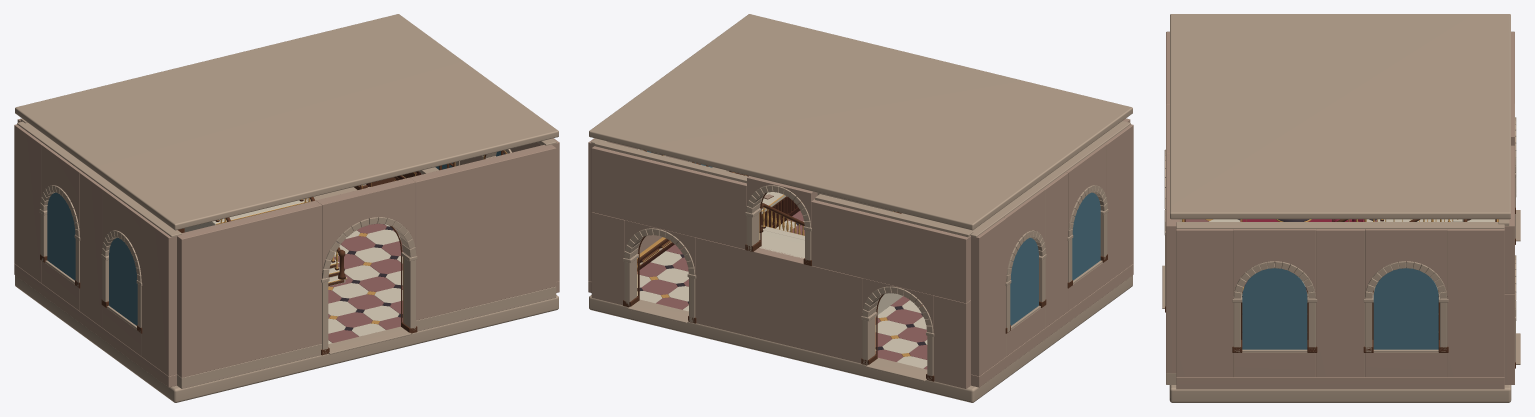
File: HotelH00.fbx
The picture shows the model from 3 angles, left to right: view 1: azimuth 30°, elevation 25°; view 2: azimuth 150°, elevation 25°; view 3: azimuth 270°, elevation 25°; orthographic projection. The views are drawn at different scales.
Parts seen in each view (by area): view 1: Roof slab, Front thick masonry.001, Front thick masonry, Exposed diorama stone foundation, Thick masonry pier, Curved plaster spandrel.007, Thick masonry pier.002, Marble mosaic - H00_Rose_Marble, Marble mosaic - H00_Ivory_Marble, Thick masonry pier.001, Recessed arched glazing.001, Recessed arched glazing (+12 smaller); view 2: Roof slab, Rear load-bearing wall pier.001, Upper gallery wall, Upper gallery wall.001, Exposed diorama stone foundation, Thick masonry pier.002, Thick masonry pier, Rear load-bearing wall pier, Thick masonry pier.001, Marble mosaic - H00_Rose_Marble, Rear load-bearing wall pier.002, Marble mosaic - H00_Ivory_Marble (+19 smaller); view 3: Roof slab, Thick masonry pier.003, Thick masonry pier.005, Thick masonry pier.004, Recessed arched glazing.003, Recessed arched glazing.002, Exposed diorama stone foundation, Wall base section.001, Curved plaster spandrel.006, Curved plaster spandrel.005, Upper side crown.001, Paneled sill masonry.003 (+8 smaller).
Part boxes in pixels (box(x1,y1,x2,y2)): Roof slab: box(15, 14, 558, 230); Front thick masonry.001: box(177, 200, 321, 377); Front thick masonry: box(410, 144, 556, 320); Exposed diorama stone foundation: box(15, 275, 558, 402); Thick masonry pier: box(141, 217, 176, 376); Curved plaster spandrel.007: box(316, 177, 415, 278); Thick masonry pier.002: box(14, 124, 43, 282); Marble mosaic - H00_Rose_Marble: box(328, 223, 402, 342); Marble mosaic - H00_Ivory_Marble: box(328, 224, 402, 343); Thick masonry pier.001: box(80, 172, 105, 327); Recessed arched glazing.001: box(47, 192, 75, 280); Recessed arched glazing: box(109, 238, 137, 325); Roof slab: box(589, 14, 1132, 230); Rear load-bearing wall pier.001: box(695, 237, 862, 363); Upper gallery wall: box(811, 199, 970, 303); Upper gallery wall.001: box(591, 146, 746, 249); Exposed diorama stone foundation: box(589, 275, 1132, 402); Thick masonry pier.002: box(971, 217, 1006, 376); Thick masonry pier: box(1104, 124, 1133, 282); Rear load-bearing wall pier: box(933, 295, 970, 388); Thick masonry pier.001: box(1042, 172, 1067, 327); Marble mosaic - H00_Rose_Marble: box(637, 210, 927, 369); Rear load-bearing wall pier.002: box(591, 212, 624, 305); Marble mosaic - H00_Ivory_Marble: box(637, 220, 927, 368); Roof slab: box(1170, 14, 1510, 219); Thick masonry pier.003: box(1447, 228, 1504, 377); Thick masonry pier.005: box(1176, 228, 1233, 377); Thick masonry pier.004: box(1316, 229, 1364, 377); Recessed arched glazing.003: box(1242, 268, 1307, 349); Recessed arched glazing.002: box(1373, 268, 1438, 349); Exposed diorama stone foundation: box(1169, 263, 1511, 402); Wall base section.001: box(1176, 377, 1504, 389); Curved plaster spandrel.006: box(1233, 229, 1315, 297); Curved plaster spandrel.005: box(1365, 229, 1447, 297); Upper side crown.001: box(1176, 222, 1504, 228); Paneled sill masonry.003: box(1233, 352, 1315, 377).
Bounding box in the file's own units: 14.7 × 6.41 × 10.91.
